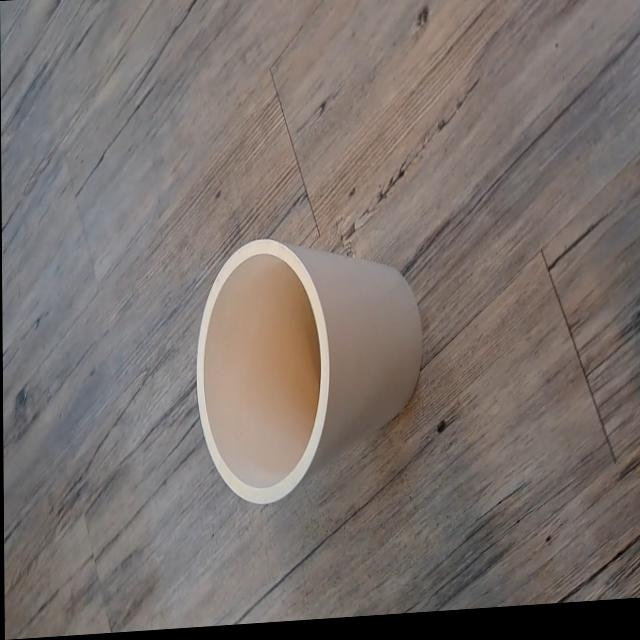CORAL: (177, 185, 444, 542)
